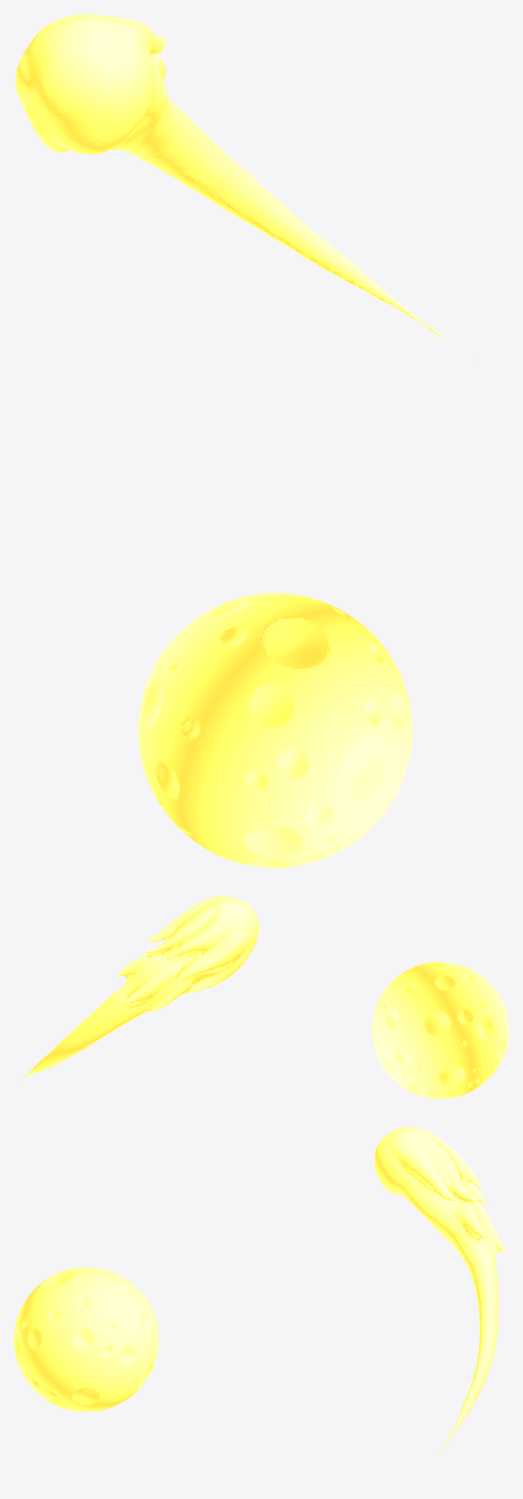
The model's file is comet_single.glb.
The picture shows the model from 3 angles, top to bottom: view 1: azimuth 30°, elevation 25°; view 2: azimuth 150°, elevation 25°; view 3: azimuth 270°, elevation 25°; orthographic projection. The views are drawn at different scales.
Parts seen in each view (by area): view 1: Comets_optimized_2, Comet_optimized_1; view 2: Comets_optimized_2, Comet_optimized_1; view 3: Comets_optimized_2, Comet_optimized_1.
Part boxes in pixels (x1,y1,x2,y2): Comets_optimized_2: [138, 593, 412, 867]; Comet_optimized_1: [15, 14, 479, 363]; Comets_optimized_2: [372, 961, 508, 1098]; Comet_optimized_1: [23, 896, 258, 1077]; Comets_optimized_2: [14, 1267, 158, 1411]; Comet_optimized_1: [374, 1127, 507, 1472].
Size of the model in its own units: 14.35 by 12.03 by 17.63.
